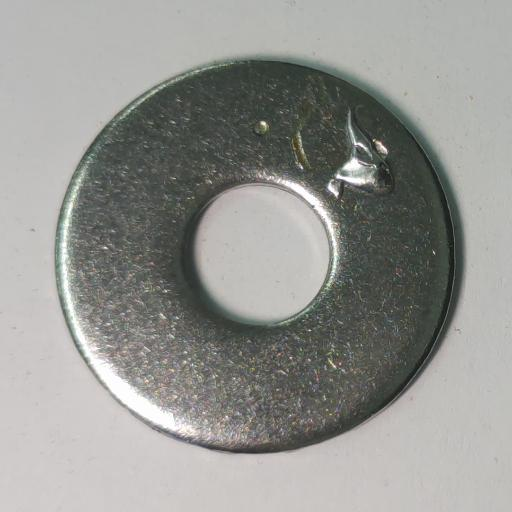excess_material: (328, 110, 394, 201)
